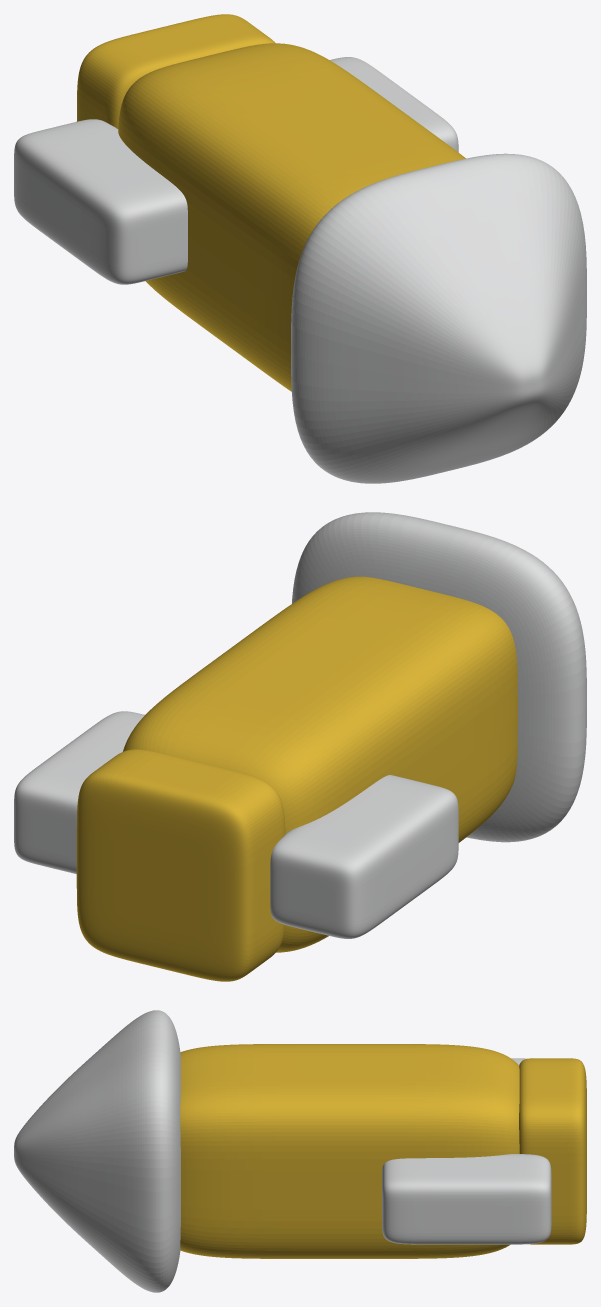
The model's file is red_toy_rocket_sq.glb.
3 views of the same model, one above another, from view 1: azimuth 30°, elevation 25°; view 2: azimuth 150°, elevation 25°; view 3: azimuth 270°, elevation 25° (orthographic). The views are drawn at different scales.
Parts seen in each view (by area): view 1: superquadric_1, superquadric_0, superquadric_2, superquadric_4, superquadric_3; view 2: superquadric_0, superquadric_4, superquadric_1, superquadric_2, superquadric_3; view 3: superquadric_0, superquadric_1, superquadric_3, superquadric_4.
Boxes of the visible parts, left/top/right/bottom form: superquadric_1: left=291, top=153, right=586, bottom=483; superquadric_0: left=118, top=43, right=465, bottom=391; superquadric_2: left=14, top=119, right=187, bottom=284; superquadric_4: left=76, top=14, right=275, bottom=128; superquadric_3: left=330, top=57, right=458, bottom=152; superquadric_0: left=123, top=576, right=517, bottom=952; superquadric_4: left=76, top=749, right=285, bottom=981; superquadric_1: left=292, top=512, right=586, bottom=842; superquadric_2: left=270, top=775, right=458, bottom=938; superquadric_3: left=14, top=711, right=144, bottom=873; superquadric_0: left=180, top=1044, right=519, bottom=1258; superquadric_1: left=14, top=1010, right=180, bottom=1292; superquadric_3: left=382, top=1154, right=551, bottom=1244; superquadric_4: left=519, top=1058, right=586, bottom=1244.
Size of the model in its own units: 0.5432 by 0.4468 by 1.
